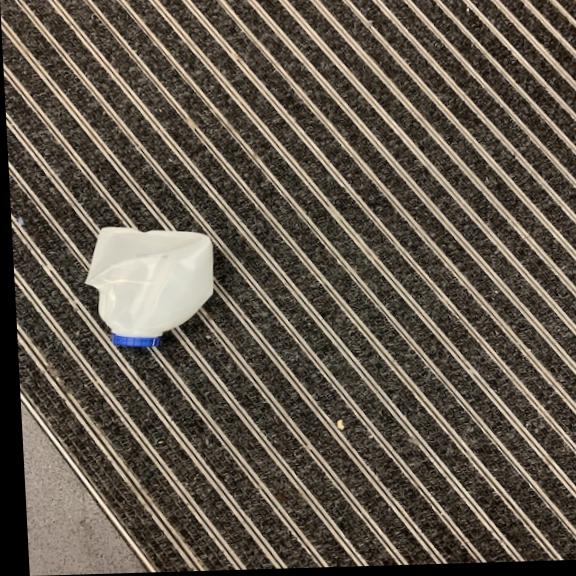Plastik: (84, 219, 223, 349)
